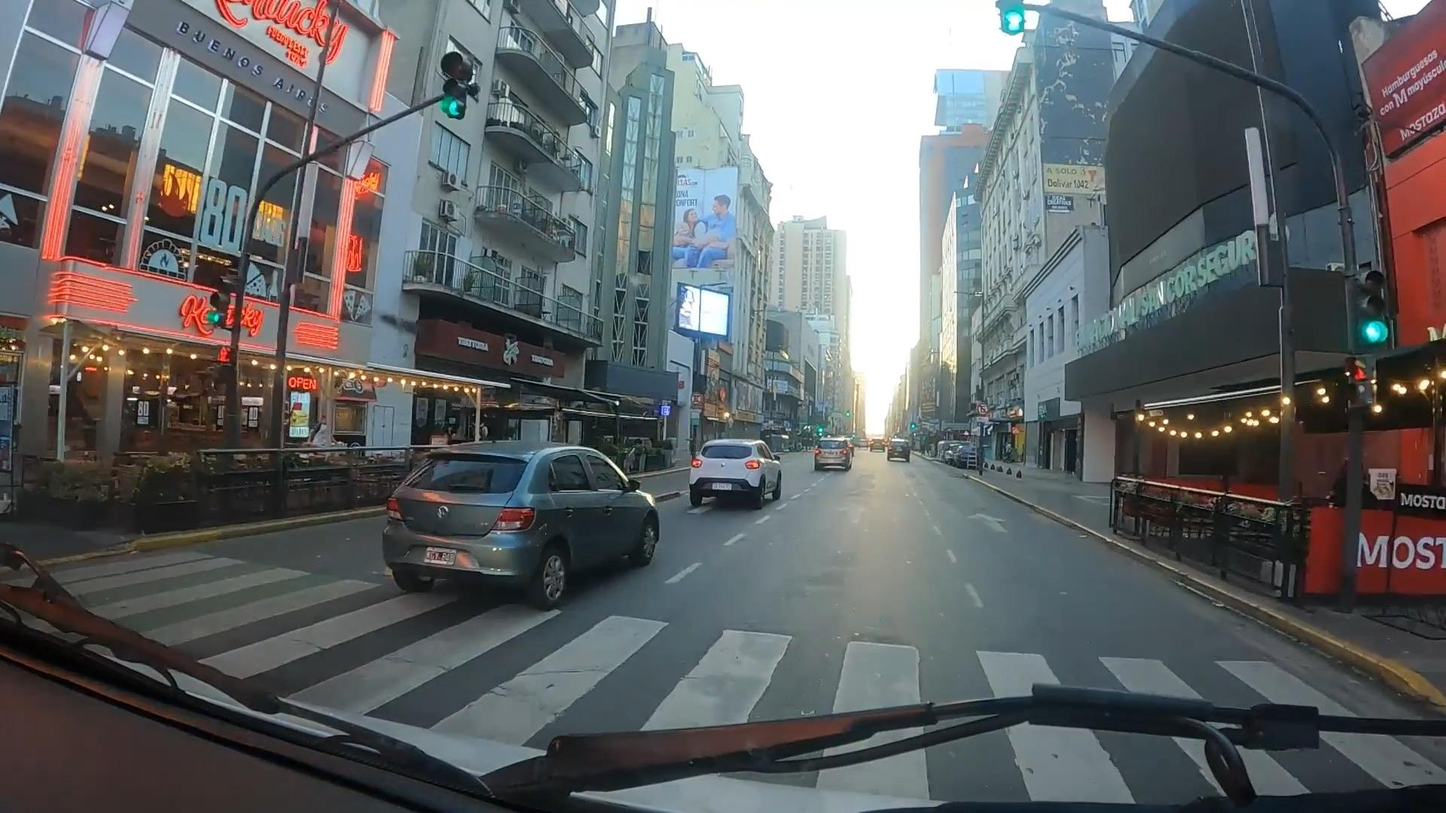dry: (0, 441, 1446, 798)
